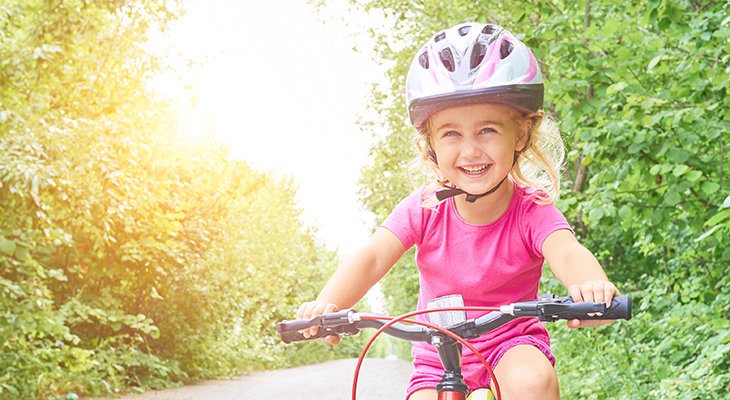helmet: (405, 22, 544, 195)
